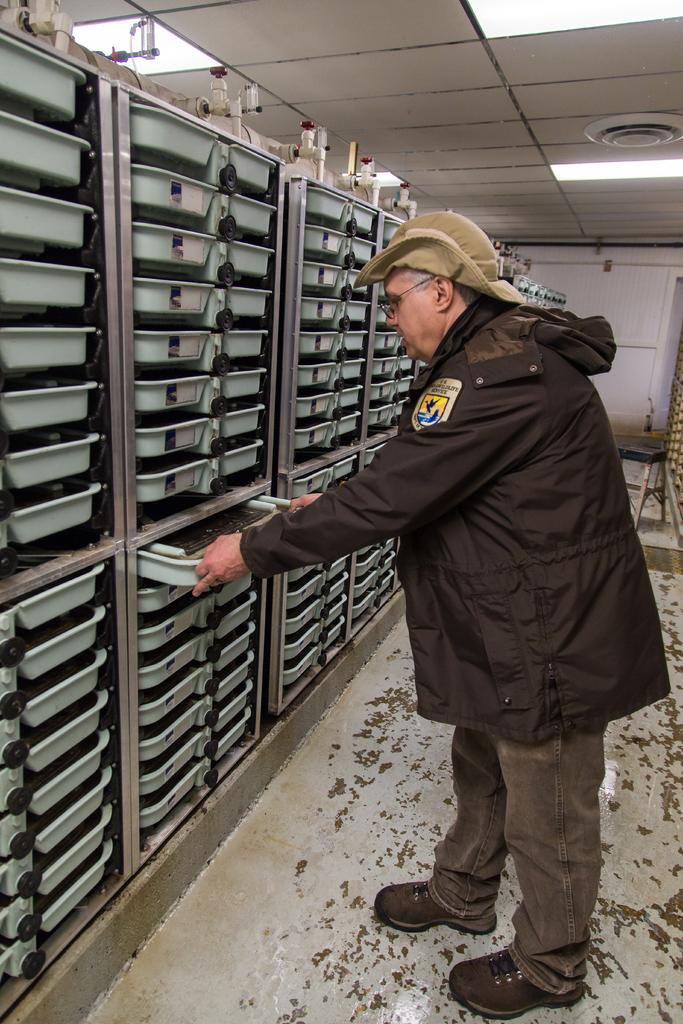Hat: (350, 206, 526, 303)
